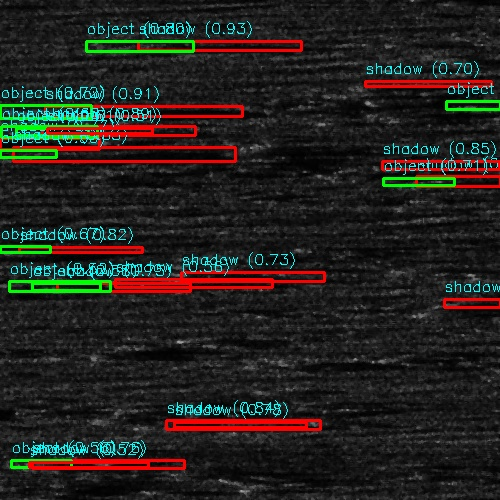rock: (224, 129, 287, 162), (0, 142, 79, 161), (213, 356, 318, 369), (153, 418, 216, 433), (83, 343, 156, 354), (115, 38, 168, 51), (0, 458, 59, 467), (137, 272, 200, 279), (447, 101, 500, 108), (17, 280, 70, 287), (348, 79, 389, 88), (218, 261, 259, 270), (55, 127, 86, 136), (12, 108, 65, 113), (0, 248, 43, 253), (419, 178, 460, 183), (0, 250, 9, 259)
shadow: (256, 129, 463, 162), (33, 142, 214, 161), (266, 356, 458, 369), (185, 418, 339, 433), (142, 38, 300, 51), (71, 127, 255, 136), (120, 343, 268, 354), (44, 280, 214, 287), (239, 261, 366, 270), (369, 79, 492, 88), (169, 272, 322, 279), (0, 250, 102, 259), (39, 108, 217, 113), (28, 458, 111, 467), (0, 140, 80, 149), (17, 248, 127, 253), (440, 178, 500, 183)
